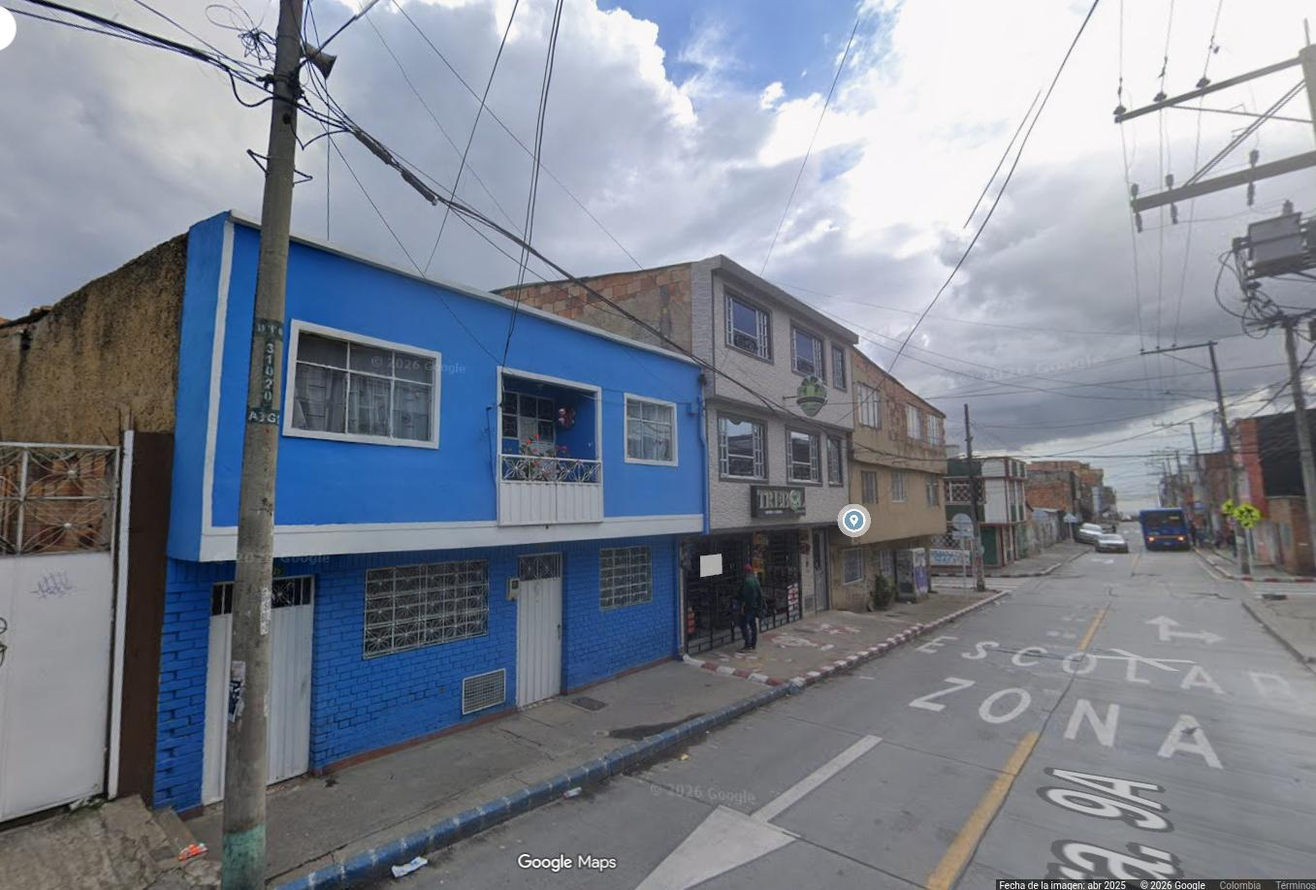casa: (37, 211, 713, 808), (495, 255, 857, 616), (828, 349, 947, 611)
poste: (222, 0, 301, 889), (1252, 305, 1315, 565), (1197, 341, 1236, 498), (1154, 346, 1196, 352), (1239, 552, 1249, 572)
